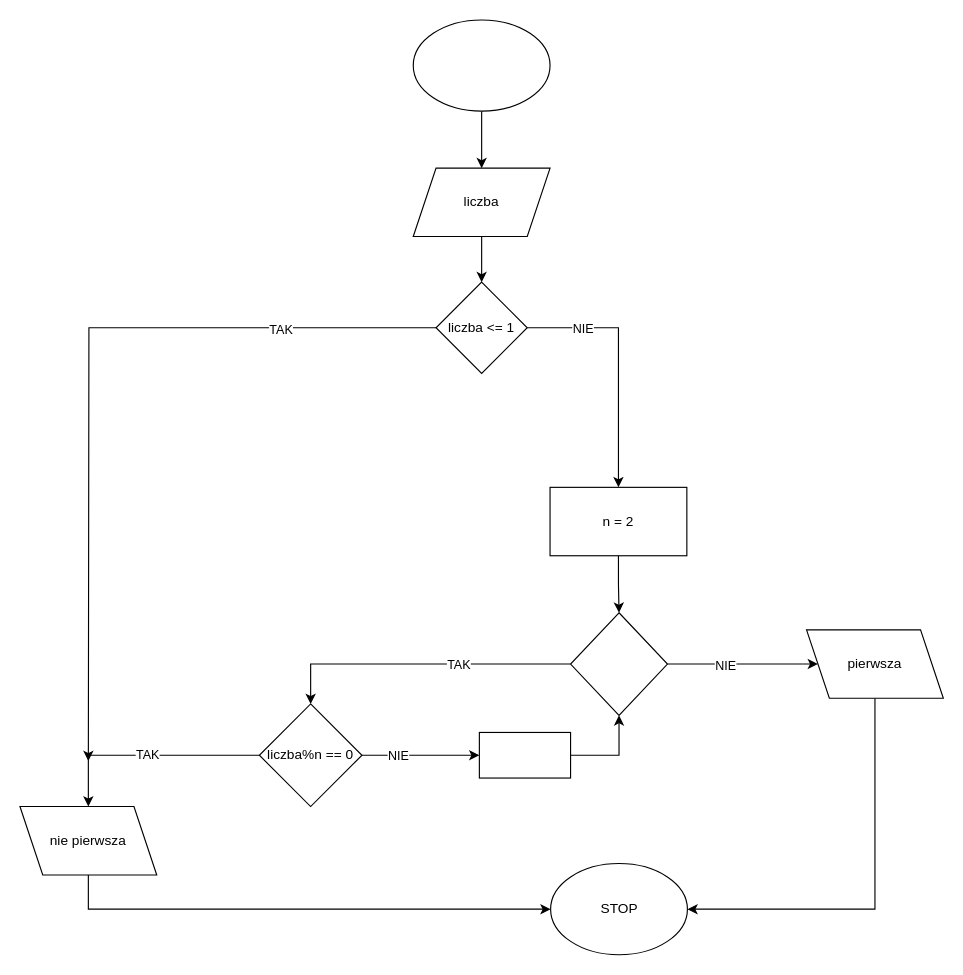
This 963x975 diagram has some shape labels left out. Each missing label, with the centre of its shape:
"n < liczba/2" belongs at (x=618, y=663).
"n = n + 1" belongs at (x=524, y=754).
"START" belongs at (x=481, y=65).
